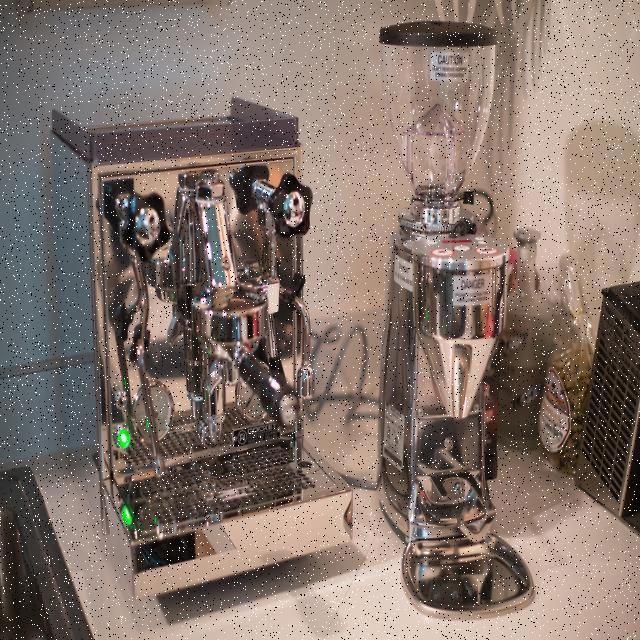Coffee-Machine: (35, 66, 341, 602), (357, 0, 538, 624)
